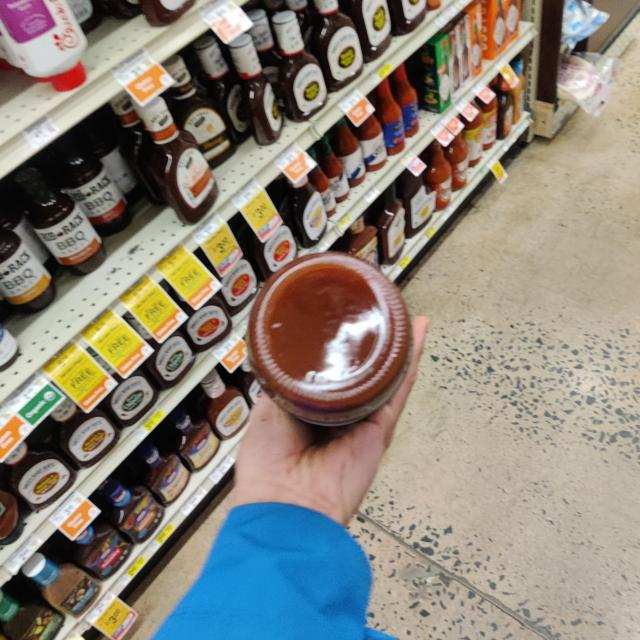Sauce: (233, 250, 422, 432)
